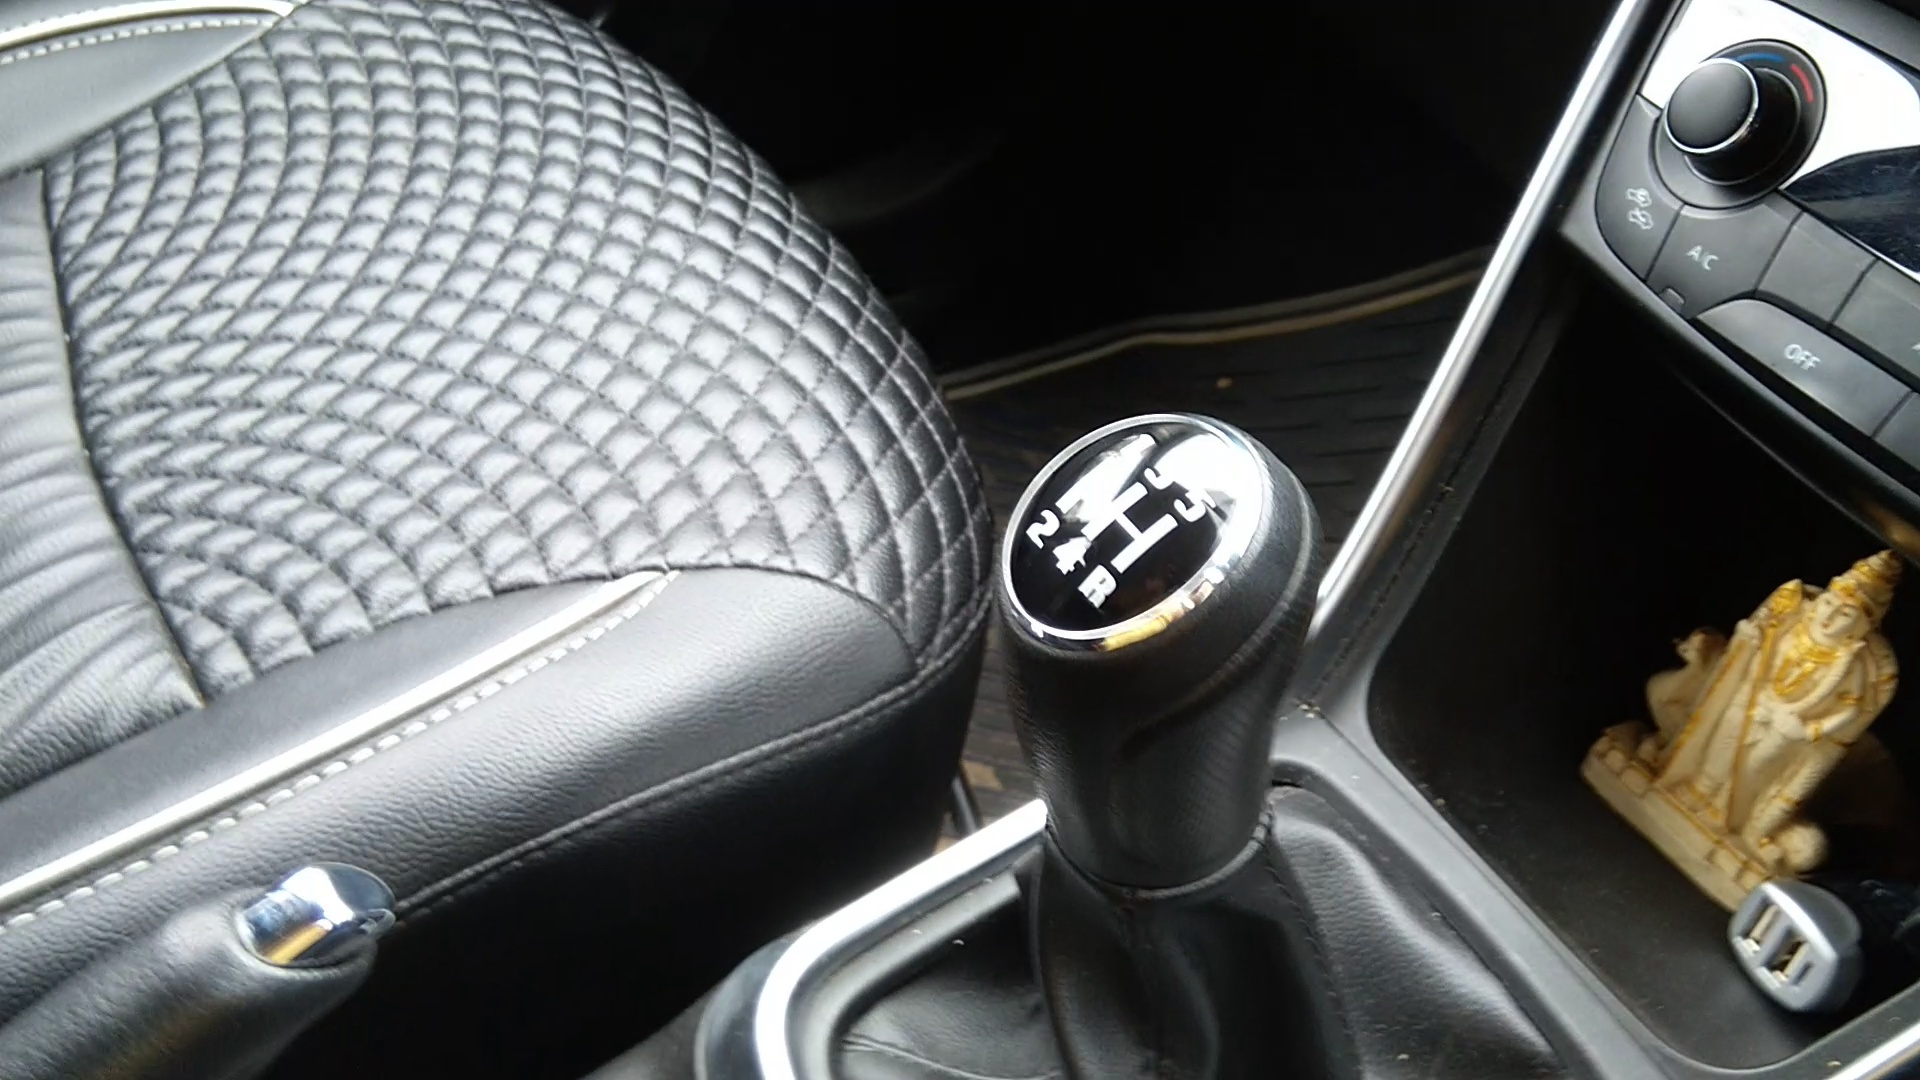manual_gear: (969, 396, 1356, 952)
